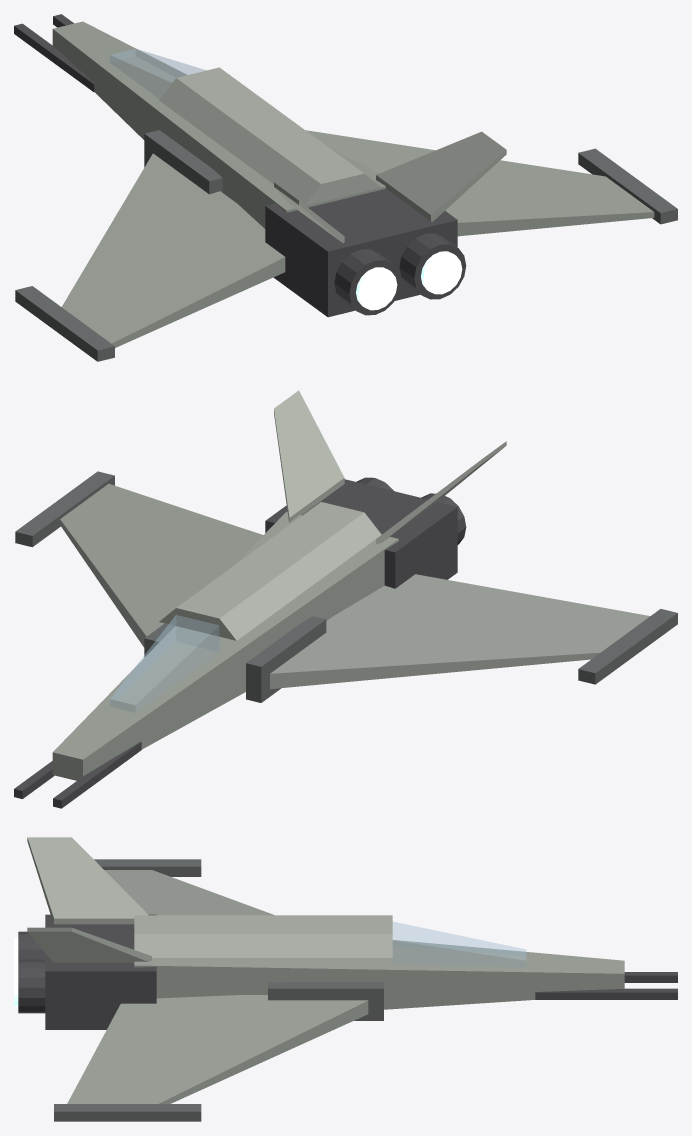
Rendered from ship_XS_FIGHTER.glb.
The picture shows the model from 3 angles, top to bottom: view 1: azimuth 30°, elevation 25°; view 2: azimuth 150°, elevation 25°; view 3: azimuth 270°, elevation 25°; orthographic projection. The views are drawn at different scales.
Visible parts, largest first — view 1: XS_FIGHTER_Hull-col, XS_FIGHTER_Armor, XS_FIGHTER_Engines, XS_FIGHTER_Trim, XS_FIGHTER_EngineGlow, XS_FIGHTER_Glass-col; view 2: XS_FIGHTER_Hull-col, XS_FIGHTER_Armor, XS_FIGHTER_Engines, XS_FIGHTER_Trim, XS_FIGHTER_Glass-col; view 3: XS_FIGHTER_Hull-col, XS_FIGHTER_Armor, XS_FIGHTER_Engines, XS_FIGHTER_Trim, XS_FIGHTER_Glass-col.
Part boxes in pixels (x1,y1,x2,y2): XS_FIGHTER_Hull-col: (52, 21, 654, 347); XS_FIGHTER_Armor: (159, 67, 506, 243); XS_FIGHTER_Engines: (14, 14, 466, 317); XS_FIGHTER_Trim: (15, 130, 677, 361); XS_FIGHTER_EngineGlow: (356, 251, 462, 310); XS_FIGHTER_Glass-col: (110, 49, 205, 98); XS_FIGHTER_Hull-col: (52, 484, 650, 780); XS_FIGHTER_Armor: (159, 390, 506, 640); XS_FIGHTER_Engines: (14, 477, 466, 808); XS_FIGHTER_Trim: (15, 471, 677, 702); XS_FIGHTER_Glass-col: (110, 615, 218, 712); XS_FIGHTER_Hull-col: (67, 870, 624, 1103); XS_FIGHTER_Armor: (27, 837, 392, 962); XS_FIGHTER_Engines: (18, 914, 677, 1029); XS_FIGHTER_Trim: (54, 859, 383, 1121); XS_FIGHTER_Glass-col: (393, 922, 525, 967).
Bounding box in the file's own units: 13.4 × 2.95 × 14.9.
